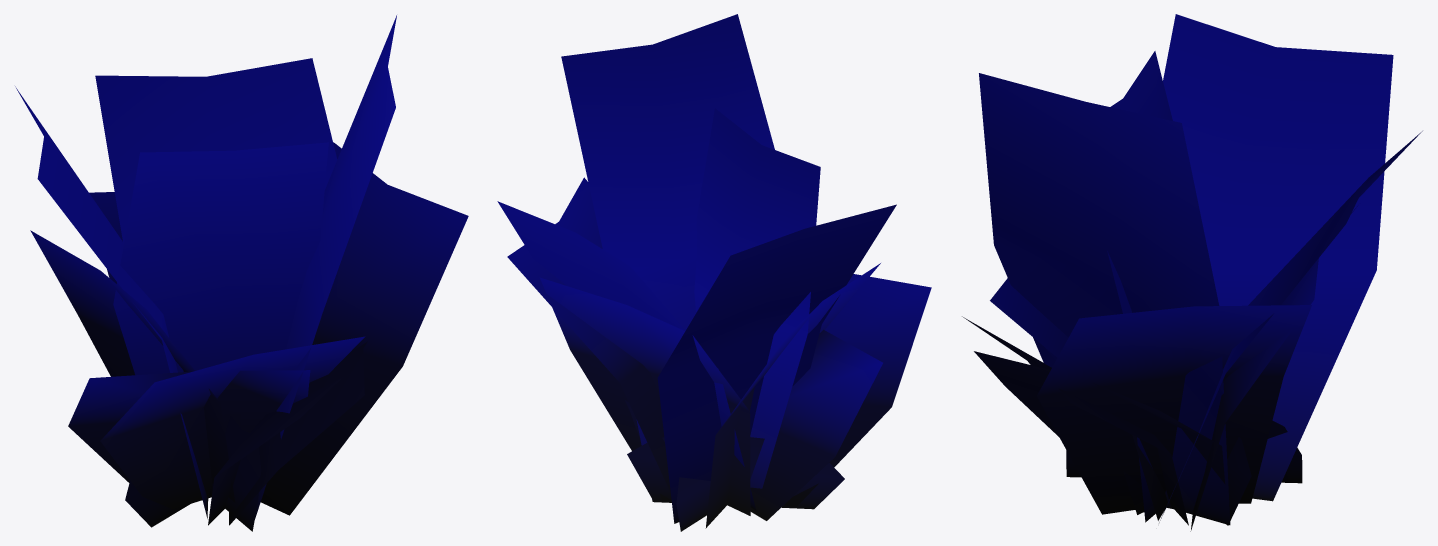
The model's file is SM_Grass_M_S_04.fbx.
3 renders of one model, left to right at view 1: azimuth 30°, elevation 25°; view 2: azimuth 150°, elevation 25°; view 3: azimuth 270°, elevation 25°, orthographic. The views are drawn at different scales.
Visible parts, largest first — view 1: SM_Grass_M_S_04; view 2: SM_Grass_M_S_04; view 3: SM_Grass_M_S_04.
Part boxes in pixels (bbox=[...]): SM_Grass_M_S_04: bbox=[15, 15, 468, 531]; SM_Grass_M_S_04: bbox=[497, 14, 931, 531]; SM_Grass_M_S_04: bbox=[962, 14, 1422, 531].
Bounding box in the file's own units: 90.81 × 88.72 × 98.84.
